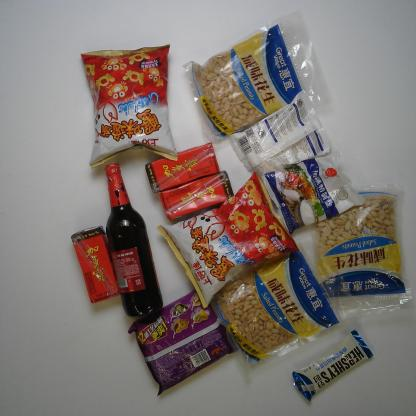Alcohol: (105, 163, 165, 318)
Chocolate: (292, 330, 374, 402)
Dried Fruit: (182, 12, 332, 145), (200, 239, 358, 365), (311, 182, 413, 324)
Drink: (70, 224, 122, 302), (160, 171, 234, 221), (146, 142, 218, 193)
Instant Noodles: (128, 283, 239, 397)
Puffed Food: (156, 172, 301, 310), (80, 44, 178, 168)
Seasoner: (257, 148, 365, 236), (227, 89, 330, 178)
